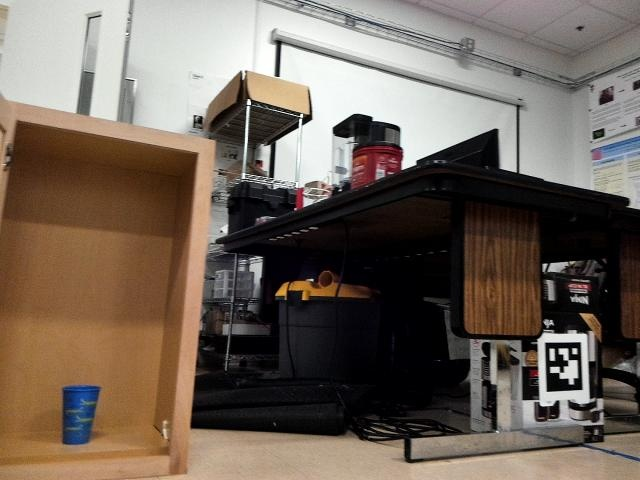water_cup: (58, 381, 101, 446)
